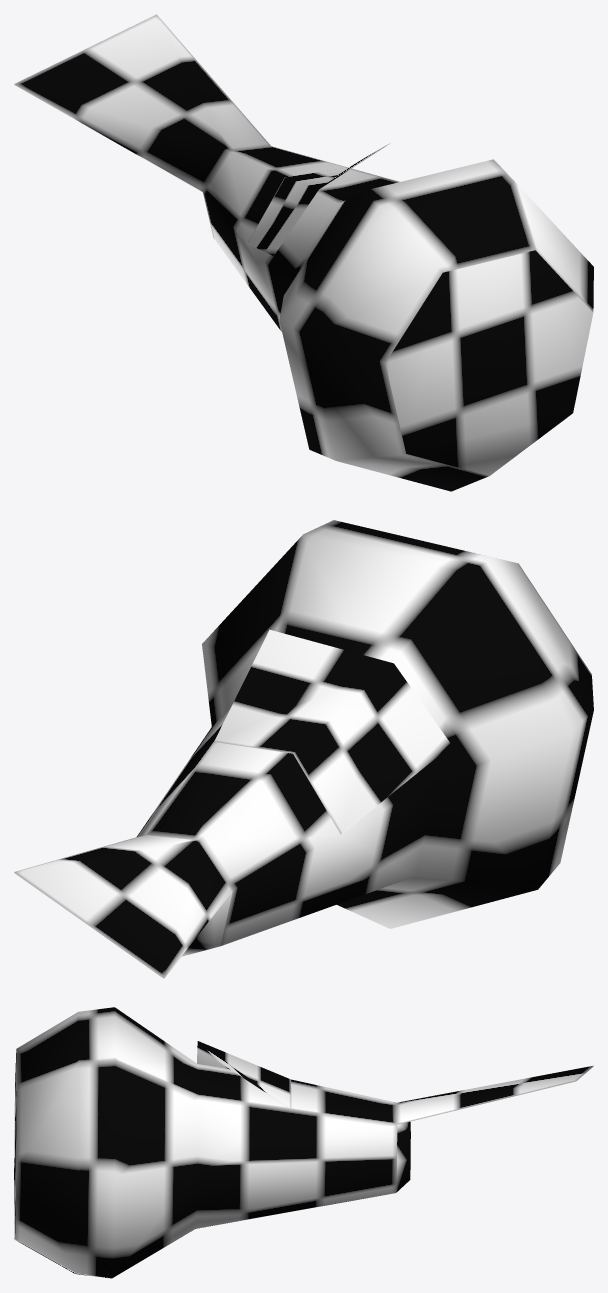
File: initqi11.dae
The picture shows the model from 3 angles, top to bottom: view 1: azimuth 30°, elevation 25°; view 2: azimuth 150°, elevation 25°; view 3: azimuth 270°, elevation 25°; orthographic projection. The views are drawn at different scales.
Parts seen in each view (by area): view 1: item; view 2: item; view 3: item.
Part boxes in pixels (left/top/right/bottom): item: left=14, top=14, right=593, bottom=491; item: left=14, top=520, right=593, bottom=978; item: left=14, top=1007, right=593, bottom=1278.
Size of the model in its own units: 0.6795 by 1.42 by 0.6631.
Materials: 1 (1 with a texture image).
